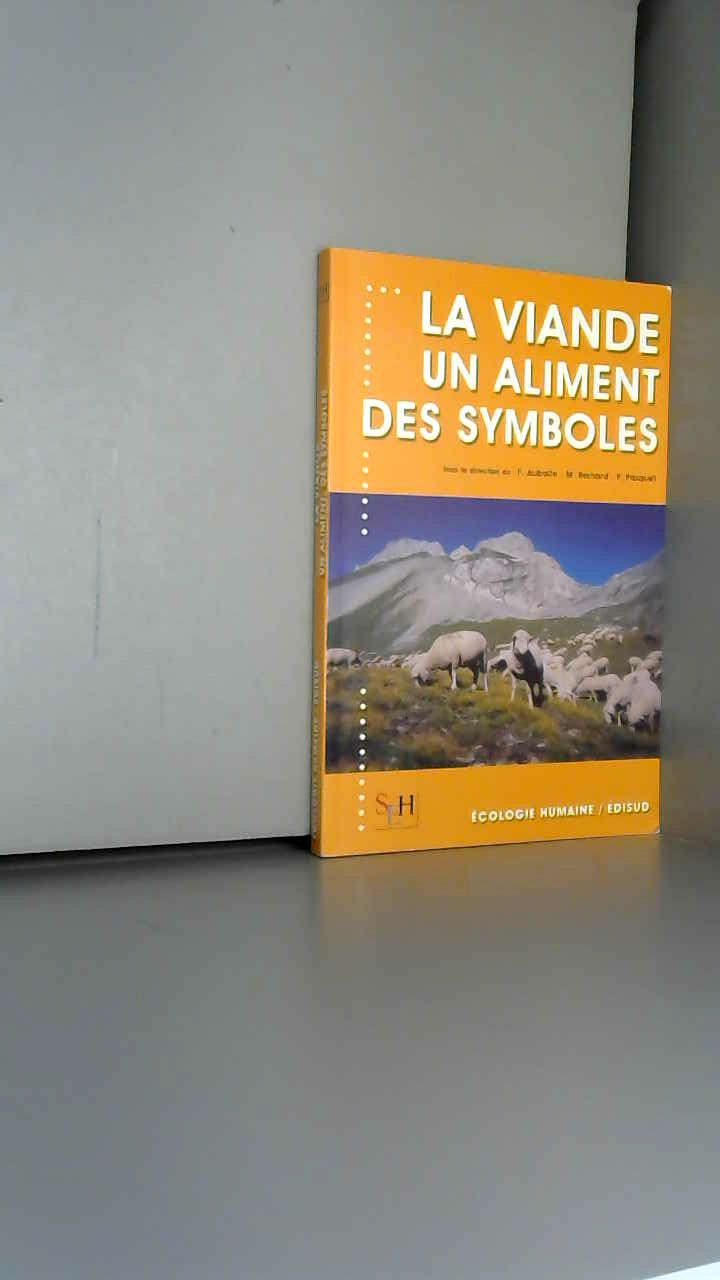book: (290, 220, 717, 876)
